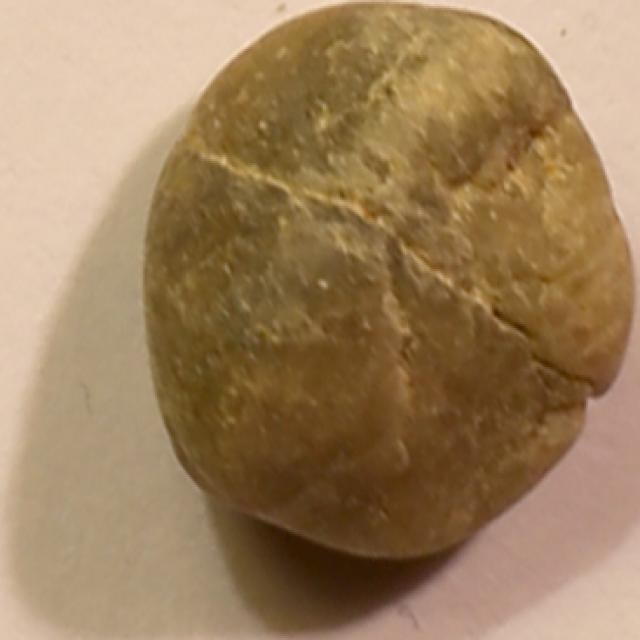stone: (140, 2, 638, 580)
